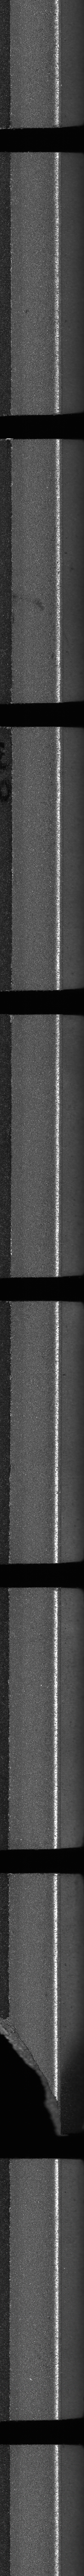Chip: (0, 2011, 71, 2141)
